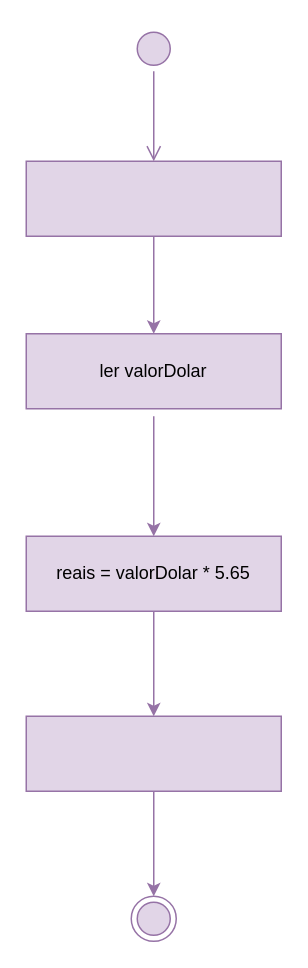
Some shapes in this 308 by 968 pixel diagram are drawn without their labels. The centre of each missing label's shape, as x and y in pixels:
Digite a quantidade de dolares: pixel 153 198
Exibir reais: pixel 153 753
